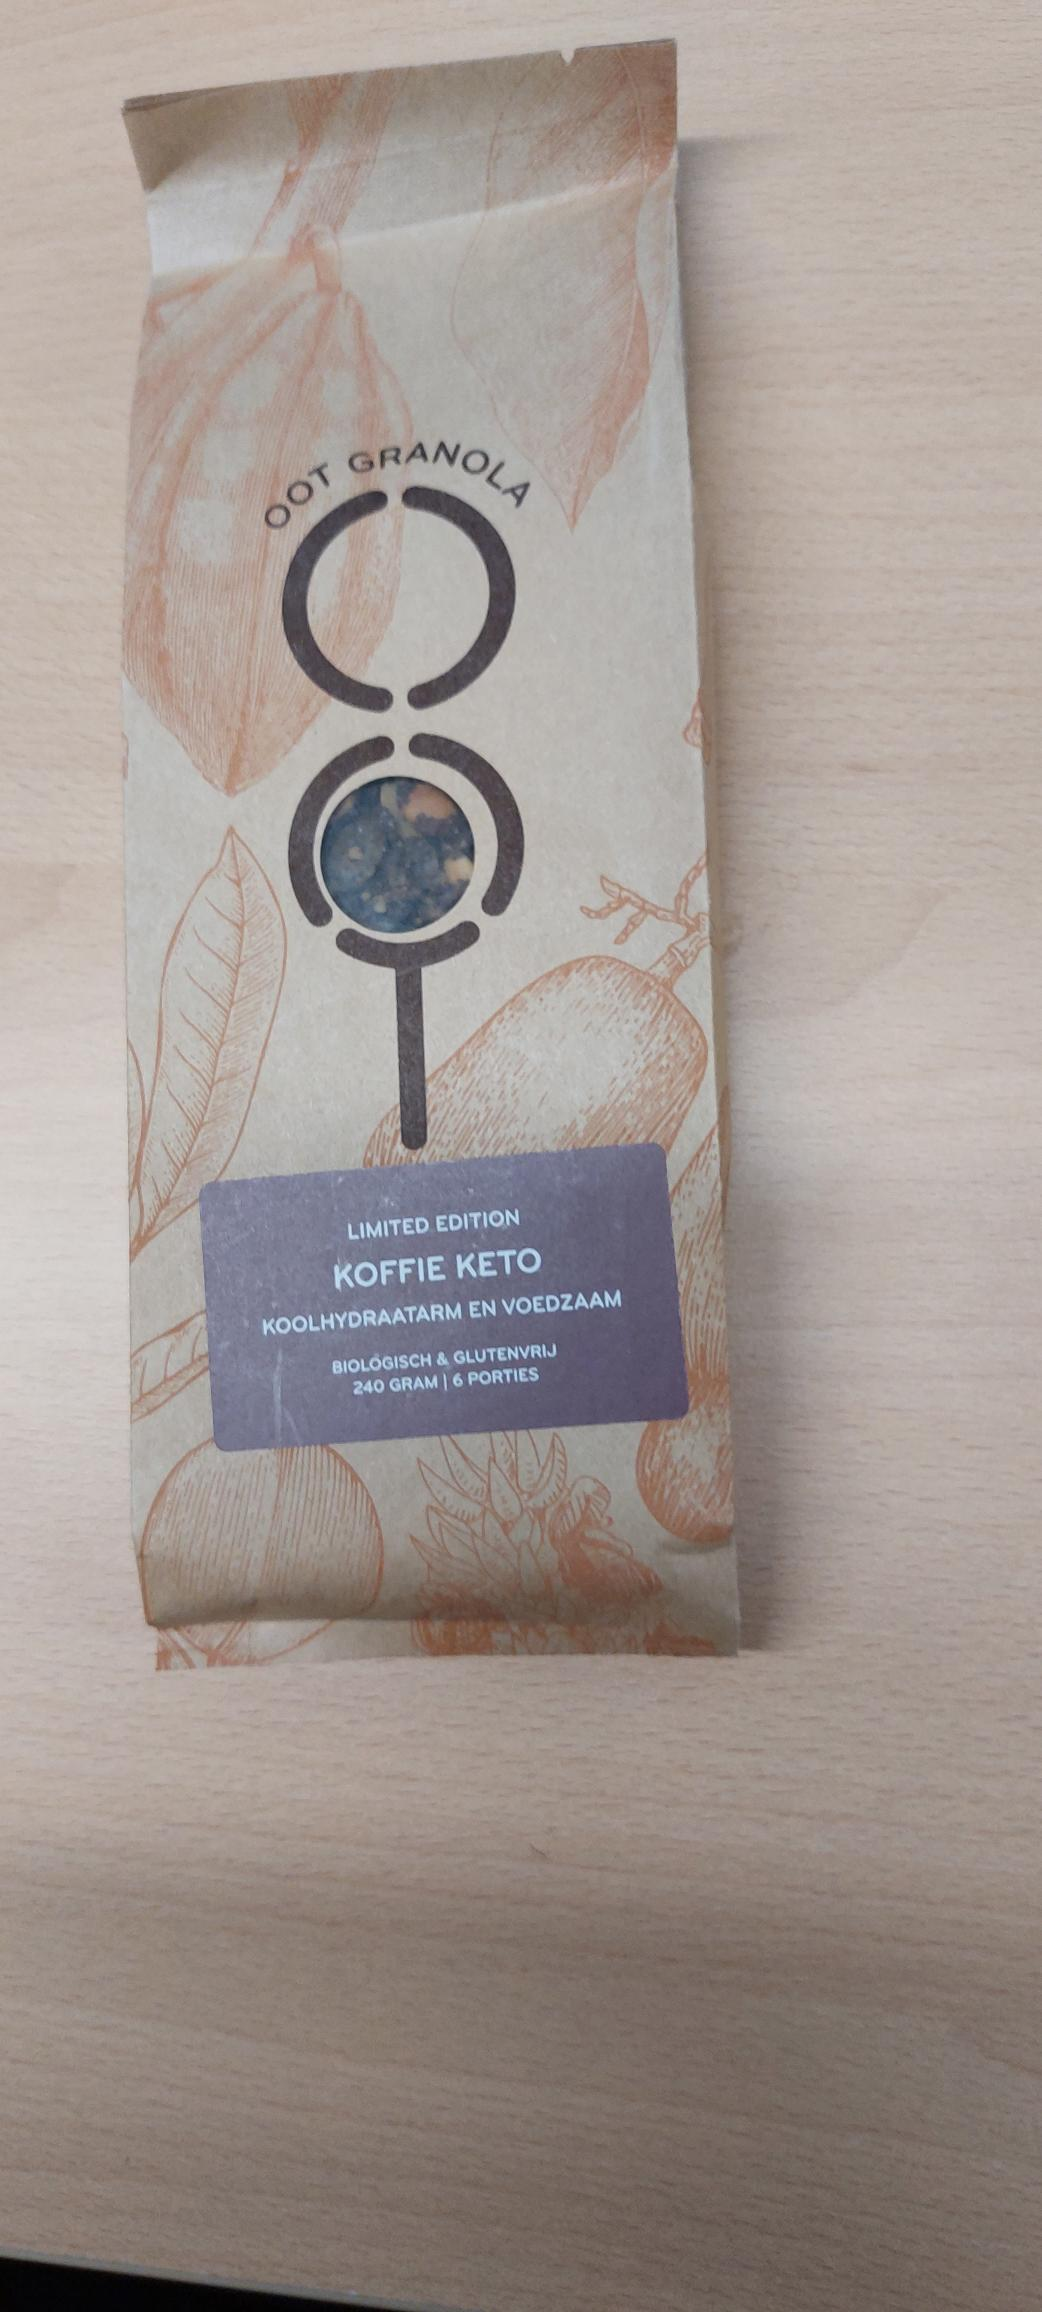KoffieKeto: (195, 1177, 679, 1432)
